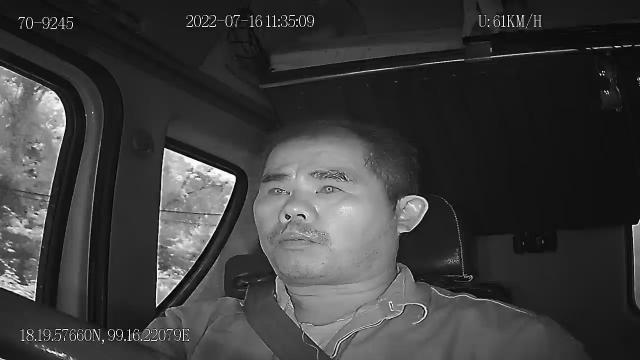SafeDriving: (307, 169, 352, 199), (262, 178, 296, 201)
Seatbelt: (243, 282, 335, 360)
